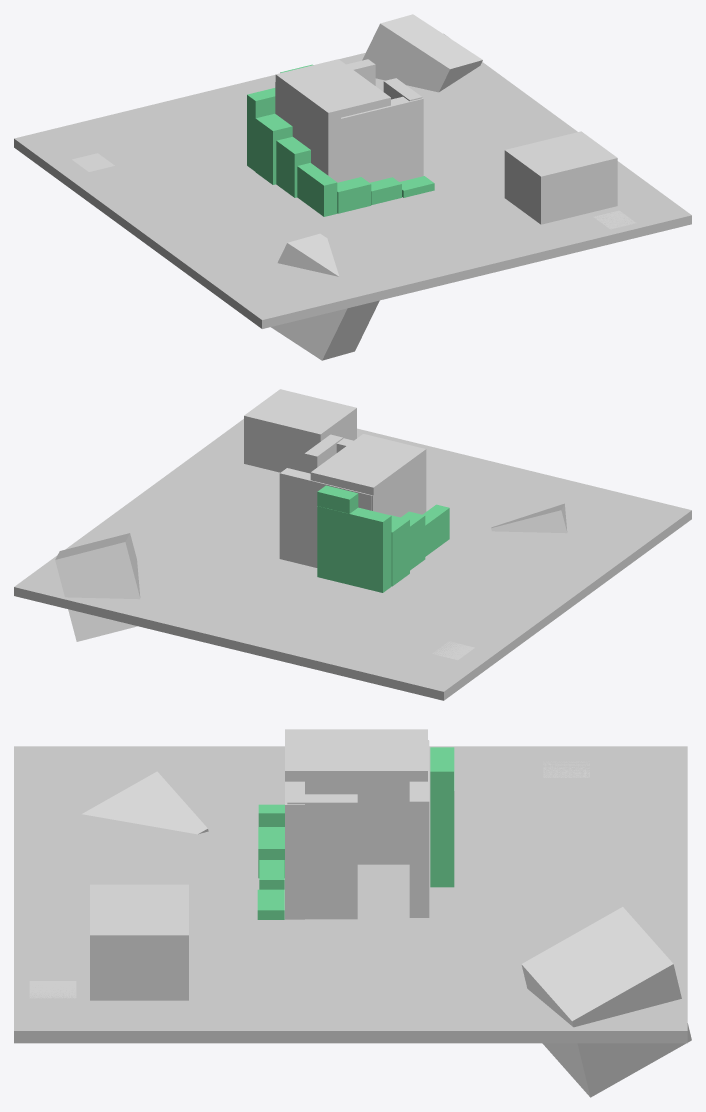
Rendered from Map.glb.
3 renders of one model, top to bottom at view 1: azimuth 30°, elevation 25°; view 2: azimuth 150°, elevation 25°; view 3: azimuth 270°, elevation 25°, orthographic. The views are drawn at different scales.
Parts seen in each view (by area): view 1: Cube, Cube.016, Cube.002, Cube.014, Cube.015, Cube.005, Cube.003, Cube.011, Cube.009, Cube.010, Cube.012, Cube.008 (+3 smaller); view 2: Cube, Cube.016, Cube.012, Cube.014, Cube.005, Cube.001, Cube.003, Cube.015, Cube.011, Cube.009, Cube.013, Cube.010 (+1 smaller); view 3: Cube, Cube.014, Cube.016, Cube.005, Cube.004, Cube.003, Cube.015, Cube.001, Cube.002, Cube.012, Cube.013, Cube.008 (+4 smaller).
Boxes of the visible parts, x1=… form: Cube: x1=14, y1=33, x2=691, y2=328; Cube.016: x1=504, y1=131, x2=617, y2=224; Cube.002: x1=341, y1=96, x2=423, y2=182; Cube.014: x1=362, y1=14, x2=482, y2=92; Cube.015: x1=271, y1=233, x2=379, y2=360; Cube.005: x1=275, y1=59, x2=390, y2=120; Cube.003: x1=275, y1=82, x2=340, y2=182; Cube.011: x1=255, y1=113, x2=292, y2=184; Cube.009: x1=297, y1=163, x2=337, y2=216; Cube.010: x1=276, y1=136, x2=310, y2=197; Cube.012: x1=247, y1=88, x2=275, y2=171; Cube.008: x1=337, y1=177, x2=371, y2=213; Cube: x1=14, y1=419, x2=691, y2=700; Cube.016: x1=244, y1=389, x2=356, y2=472; Cube.012: x1=317, y1=506, x2=391, y2=592; Cube.014: x1=55, y1=533, x2=140, y2=641; Cube.005: x1=310, y1=434, x2=426, y2=495; Cube.001: x1=279, y1=468, x2=371, y2=567; Cube.003: x1=365, y1=457, x2=426, y2=517; Cube.015: x1=491, y1=503, x2=567, y2=533; Cube.011: x1=390, y1=515, x2=409, y2=586; Cube.009: x1=422, y1=504, x2=449, y2=556; Cube.013: x1=317, y1=485, x2=358, y2=513; Cube.010: x1=401, y1=511, x2=425, y2=570; Cube: x1=14, y1=746, x2=687, y2=1043; Cube.014: x1=521, y1=907, x2=691, y2=1097; Cube.016: x1=90, y1=884, x2=188, y2=1000; Cube.005: x1=285, y1=729, x2=427, y2=781; Cube.004: x1=287, y1=794, x2=357, y2=919; Cube.003: x1=305, y1=740, x2=428, y2=864; Cube.015: x1=82, y1=771, x2=208, y2=834; Cube.001: x1=409, y1=741, x2=429, y2=917; Cube.002: x1=285, y1=781, x2=304, y2=919; Cube.012: x1=430, y1=747, x2=454, y2=887; Cube.013: x1=430, y1=750, x2=453, y2=790; Cube.008: x1=258, y1=827, x2=284, y2=878.
Bounding box in the file's own units: 100 × 41.69 × 101.
